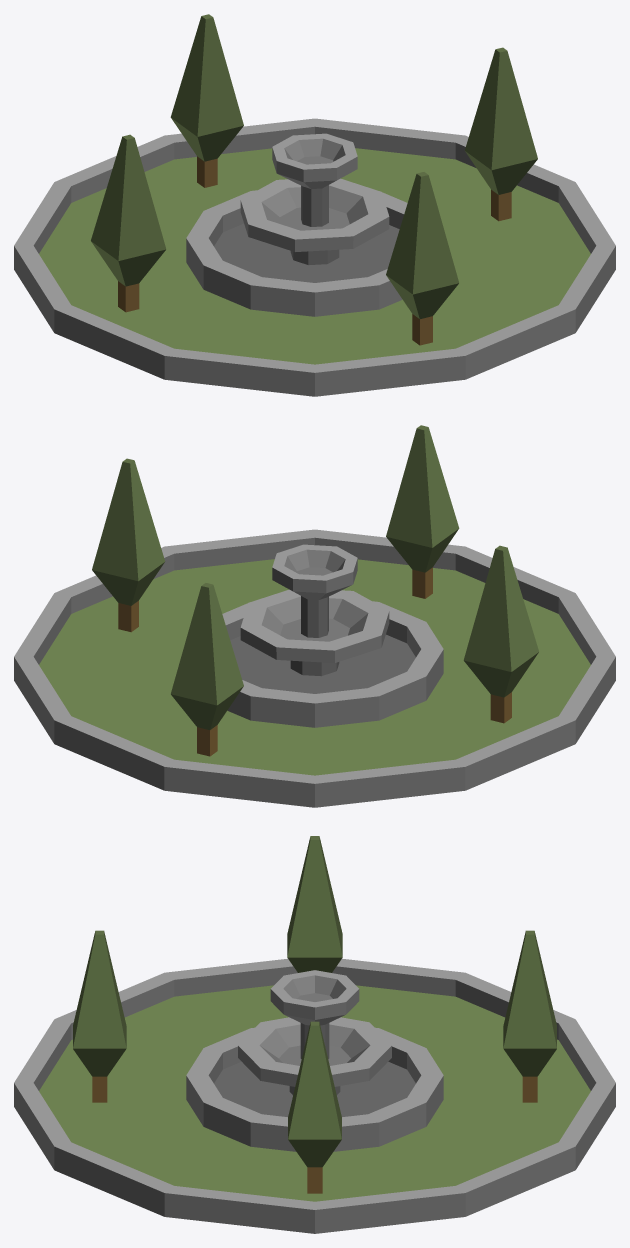
Rendered from SA_Bld_HospitalFountain_Damaged_01.gltf.
3 views of the same model, one above another, from view 1: azimuth 30°, elevation 25°; view 2: azimuth 150°, elevation 25°; view 3: azimuth 270°, elevation 25° (orthographic).
Parts seen in each view (by area): view 1: SA_Bld_HospitalFountain_Damaged_01; view 2: SA_Bld_HospitalFountain_Damaged_01; view 3: SA_Bld_HospitalFountain_Damaged_01.
Boxes of the visible parts, <box> form: SA_Bld_HospitalFountain_Damaged_01: <box>14,14,615,396</box>; SA_Bld_HospitalFountain_Damaged_01: <box>14,425,615,807</box>; SA_Bld_HospitalFountain_Damaged_01: <box>14,836,615,1233</box>.
Bounding box in the file's own units: 26.88 × 8.76 × 26.88.
Materials: 1 (1 with a texture image).
